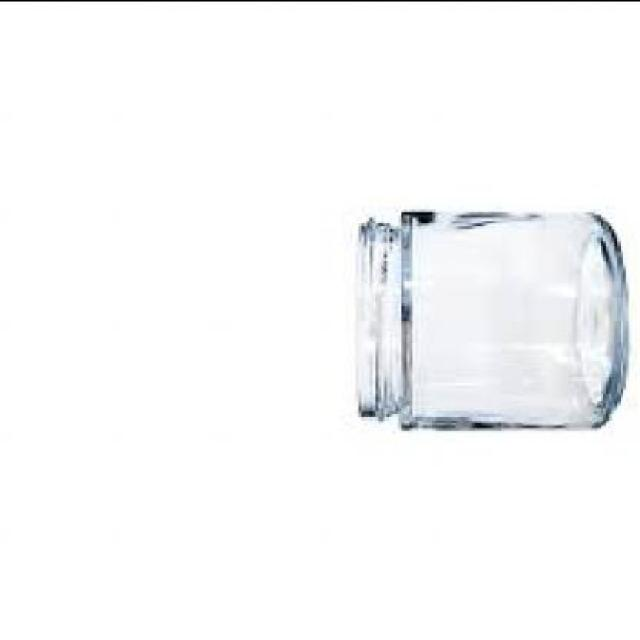GLASS: (352, 208, 623, 426)
